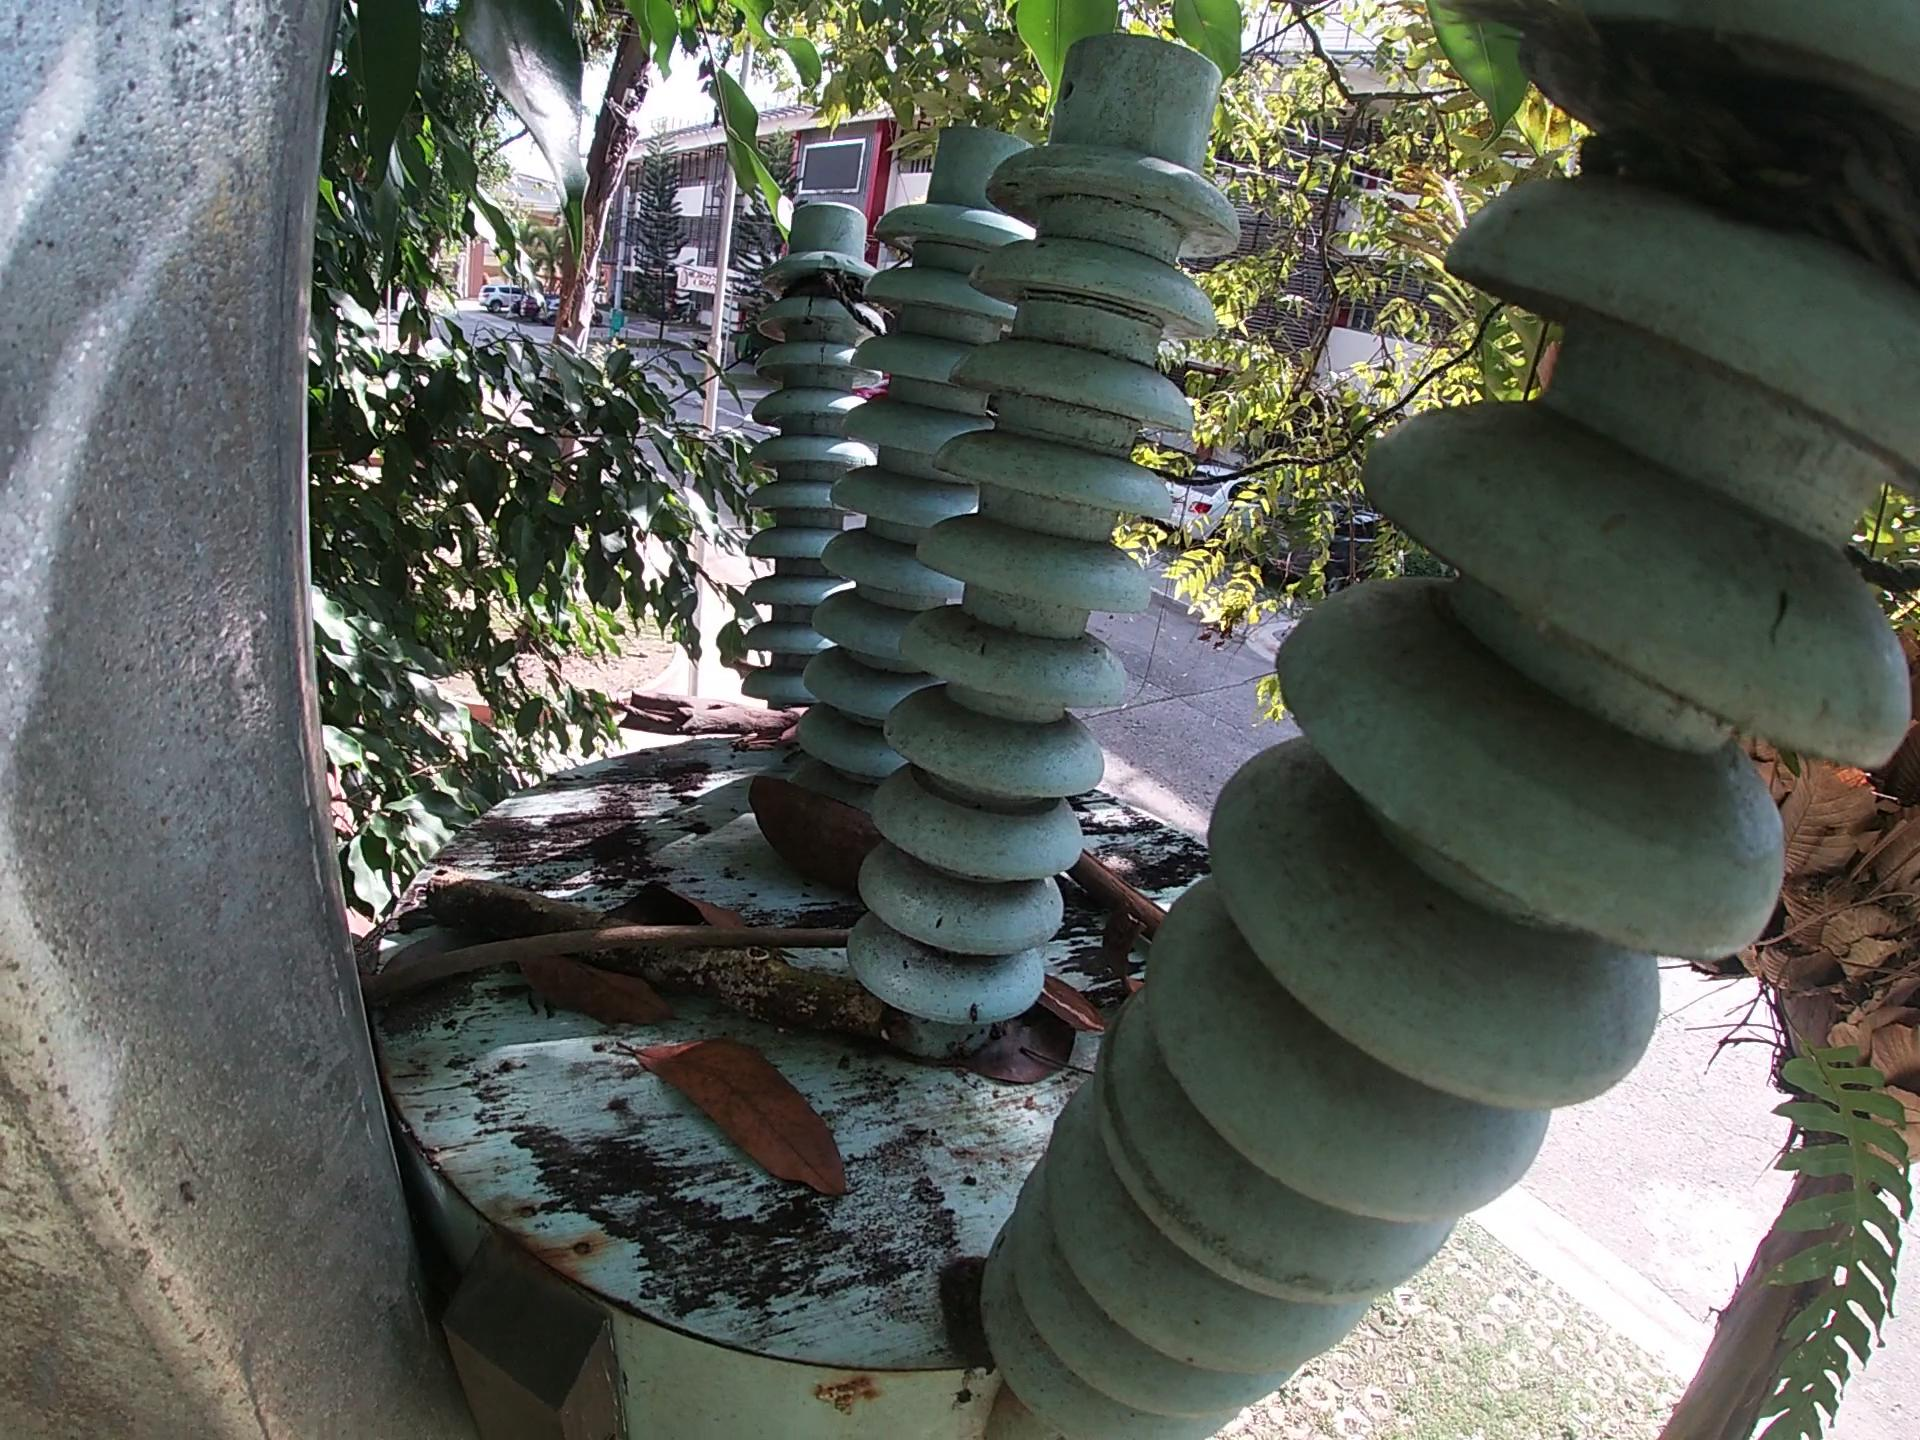leaf: (606, 1035, 862, 1212), (513, 954, 685, 1029), (943, 1013, 1081, 1091), (584, 877, 748, 927)
mahogany fruit: (745, 768, 881, 898), (1098, 895, 1152, 1000), (1036, 973, 1107, 1039)
tree branch: (423, 871, 887, 1047), (358, 923, 856, 1013), (608, 688, 815, 755), (1064, 849, 1172, 945)
